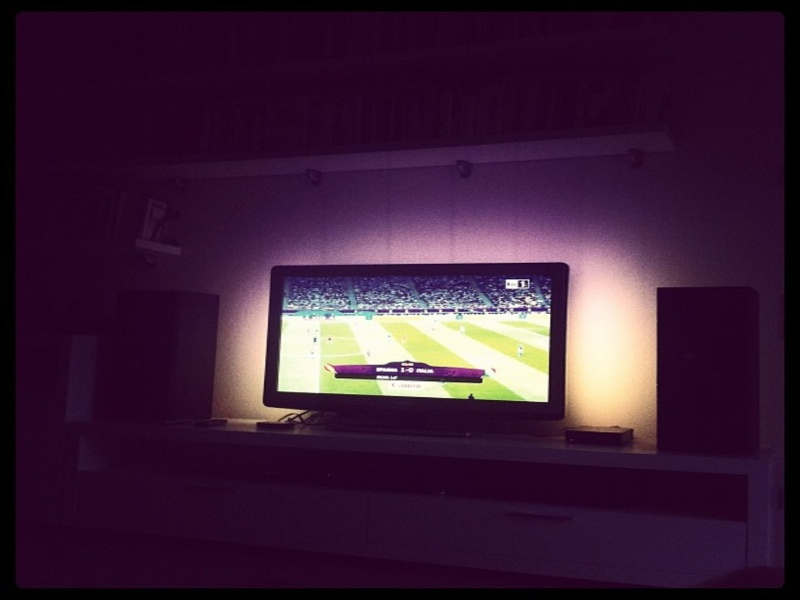tv: (263, 252, 580, 444)
